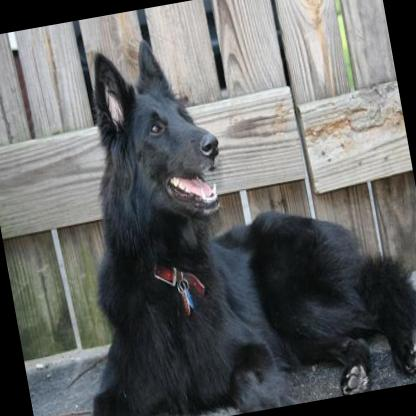groenendael: (22, 0, 416, 416)
